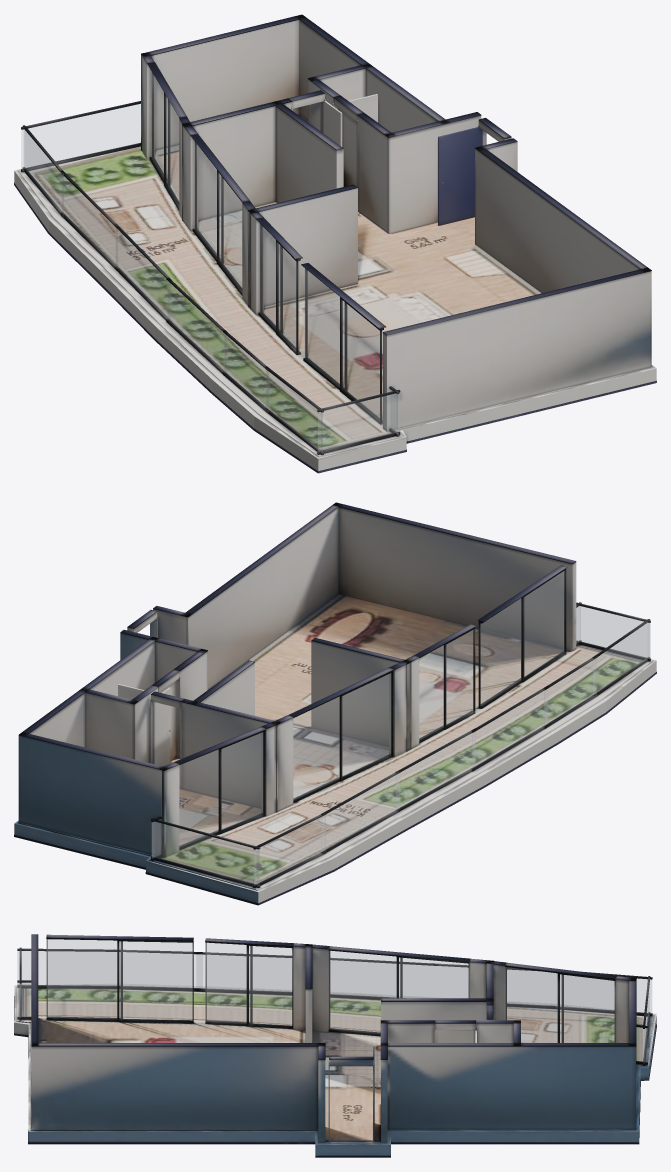
The picture shows the model from 3 angles, top to bottom: view 1: azimuth 30°, elevation 25°; view 2: azimuth 150°, elevation 25°; view 3: azimuth 270°, elevation 25°; orthographic projection. The views are drawn at different scales.
Parts seen in each view (by area): view 1: plan, glass3_m, railg0_m, glass1_m, railg3_m, glass2_m, railg6_m, glass0_m, railg4_m, railg8_m, railg7_m, railg5_m (+1 smaller); view 2: plan, glass1_m, glass3_m, glass0_m, glass2_m, railg0_m, railg7_m, railg8_m, railg6_m, railg9_m, railg3_m, railg4_m (+1 smaller); view 3: plan, glass3_m, glass1_m, glass0_m, glass2_m, railg7_m, railg6_m, railg4_m, railg5_m, railg8_m, railg9_m, railg2_m (+1 smaller).
Part boxes in pixels (x1,y1,x2,y2): plan: (14, 14, 656, 473); glass3_m: (304, 268, 382, 421); railg0_m: (21, 104, 140, 168); glass1_m: (194, 141, 241, 289); railg3_m: (318, 393, 399, 451); glass2_m: (259, 223, 299, 352); railg6_m: (167, 281, 227, 373); glass0_m: (151, 71, 178, 203); railg4_m: (266, 370, 322, 451); railg8_m: (62, 175, 118, 267); railg7_m: (115, 228, 170, 321); railg5_m: (224, 333, 269, 410); plan: (14, 502, 656, 905); glass1_m: (293, 673, 390, 799); glass3_m: (480, 571, 563, 705); glass0_m: (179, 732, 262, 846); glass2_m: (419, 630, 472, 739); railg0_m: (152, 822, 259, 884); railg7_m: (396, 732, 475, 809); railg8_m: (321, 773, 399, 851); railg6_m: (472, 689, 547, 768); railg9_m: (254, 815, 325, 885); railg3_m: (577, 606, 650, 658); railg4_m: (593, 623, 648, 694); plan: (14, 934, 656, 1157); glass3_m: (47, 939, 192, 1020); glass1_m: (329, 951, 468, 1033); glass0_m: (505, 967, 614, 1042); glass2_m: (205, 943, 291, 1025); railg7_m: (331, 960, 431, 997); railg6_m: (196, 954, 291, 991); railg4_m: (17, 951, 113, 985); railg5_m: (123, 952, 202, 988); railg8_m: (438, 966, 550, 1005); railg9_m: (556, 974, 651, 1013); railg2_m: (17, 983, 30, 1016).
Size of the model in its own units: 9.4 by 2.62 by 15.8.
Materials: 2 (1 with a texture image).
